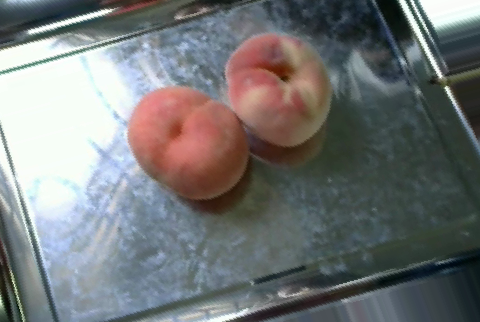Peach: (128, 85, 249, 201), (225, 31, 332, 148)
